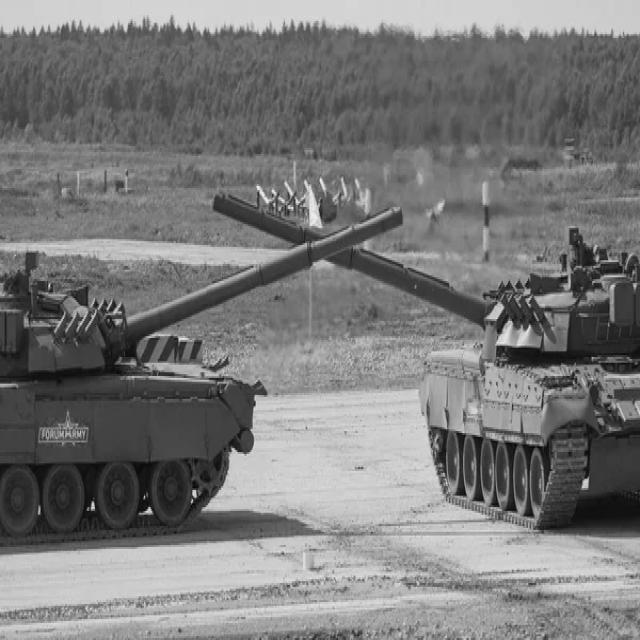Tank: (211, 168, 640, 539), (0, 185, 407, 556)
